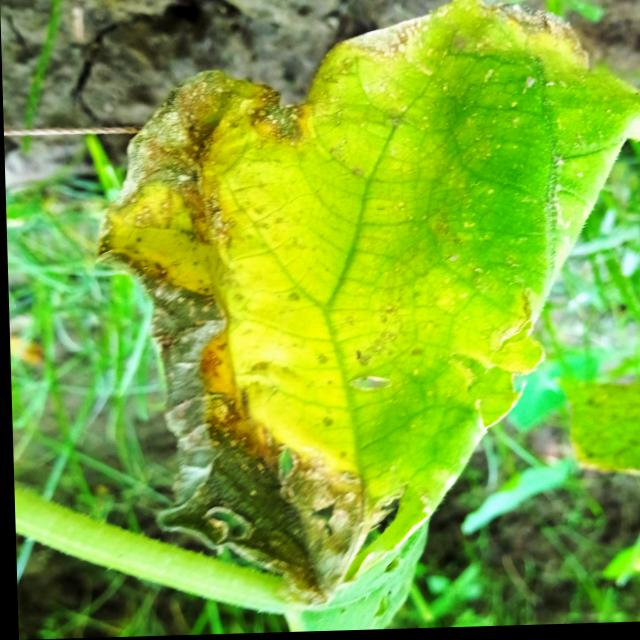Gummy-Stem-Blight: (94, 65, 387, 605)
